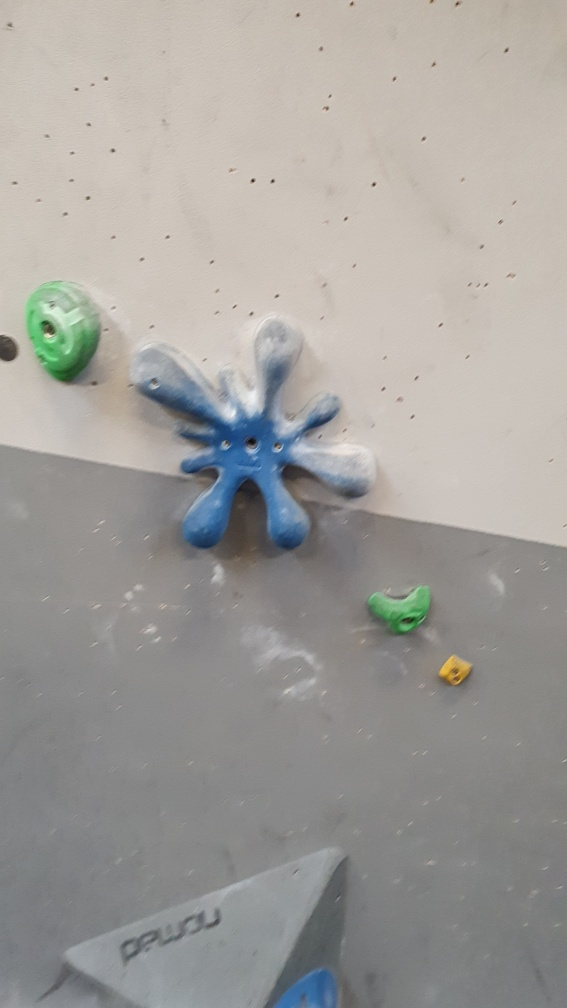Hand Start: (1, 338, 23, 368)
Jug: (24, 276, 112, 389), (367, 579, 437, 638)
Octopus Pinch: (130, 314, 379, 560)
